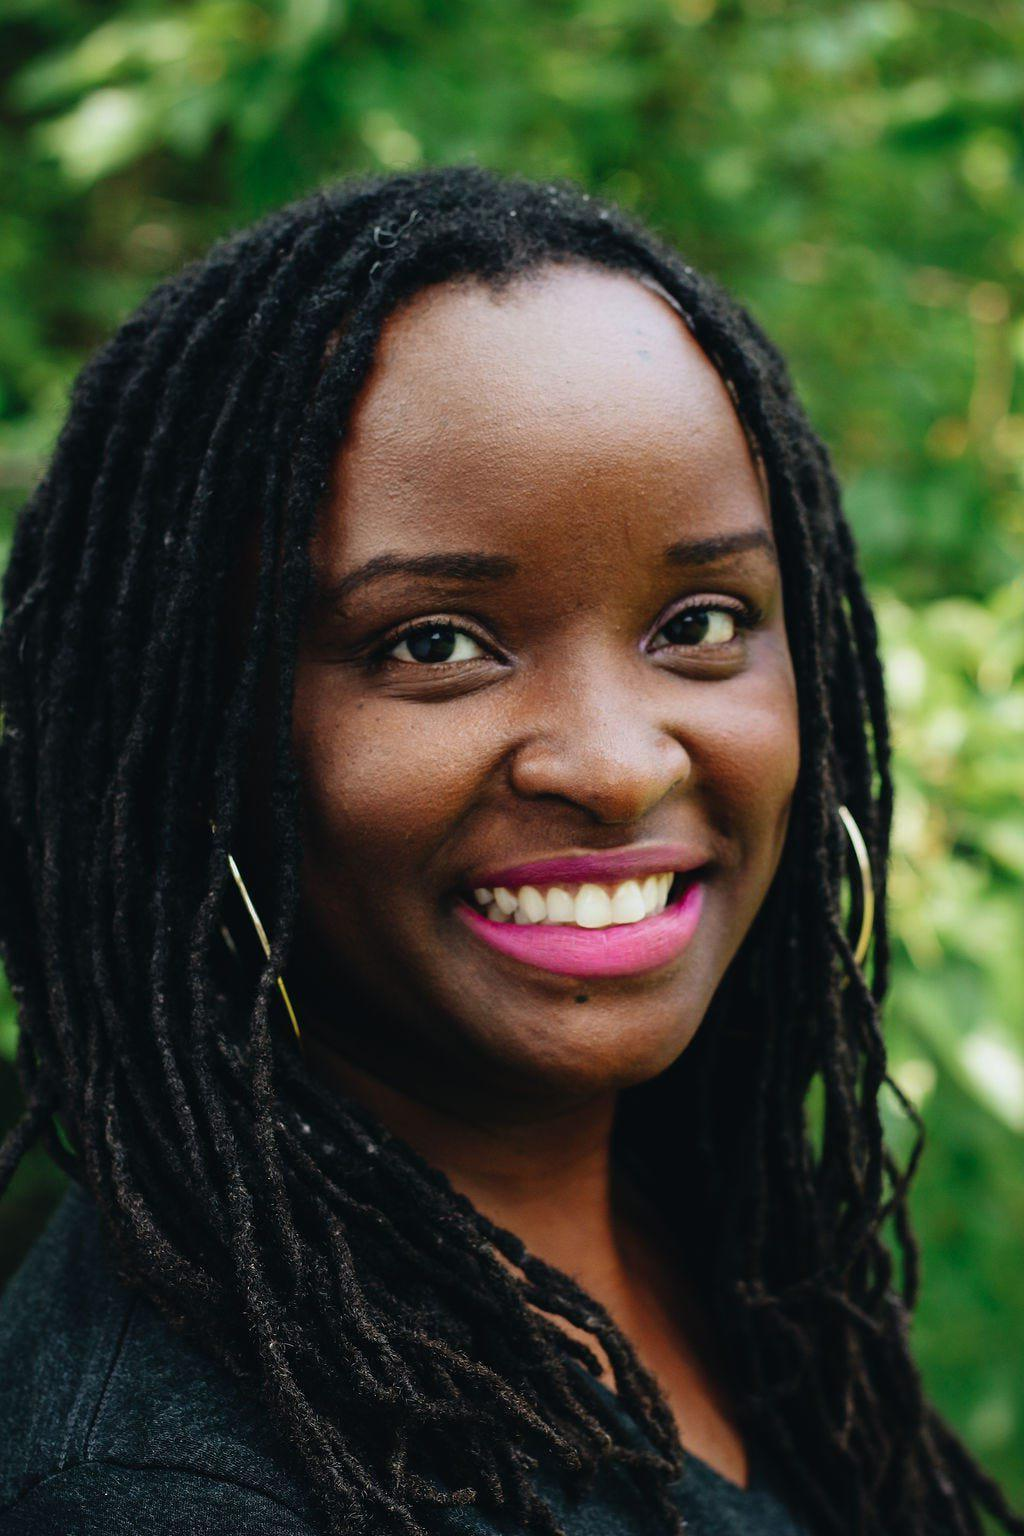Sober: (309, 344, 808, 1034)
